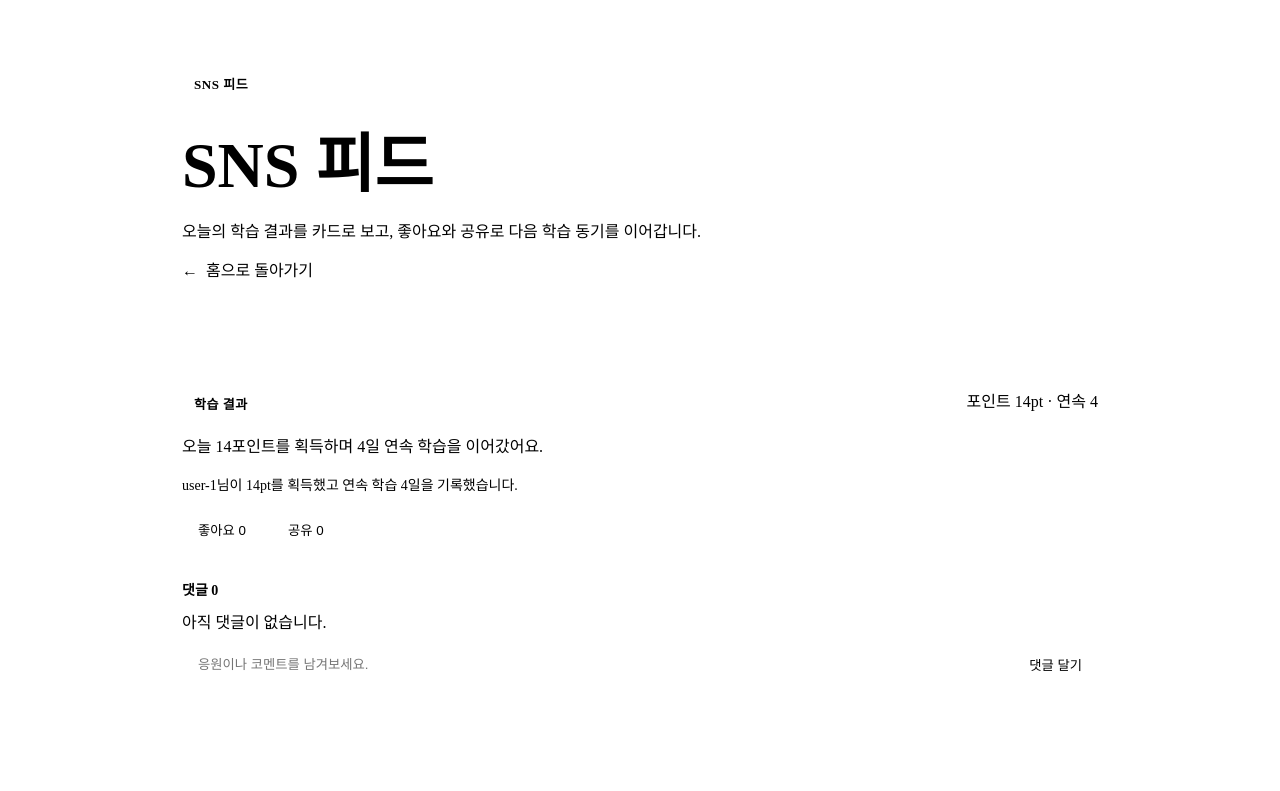
it: feed ui › blocks duplicate share rewards for the same post
What coordinates should you click on to do the following:
click the button with aria-label "공유 post-reward"
I would click on:
 (306, 530)
Its box is 272,508 -> 340,551.
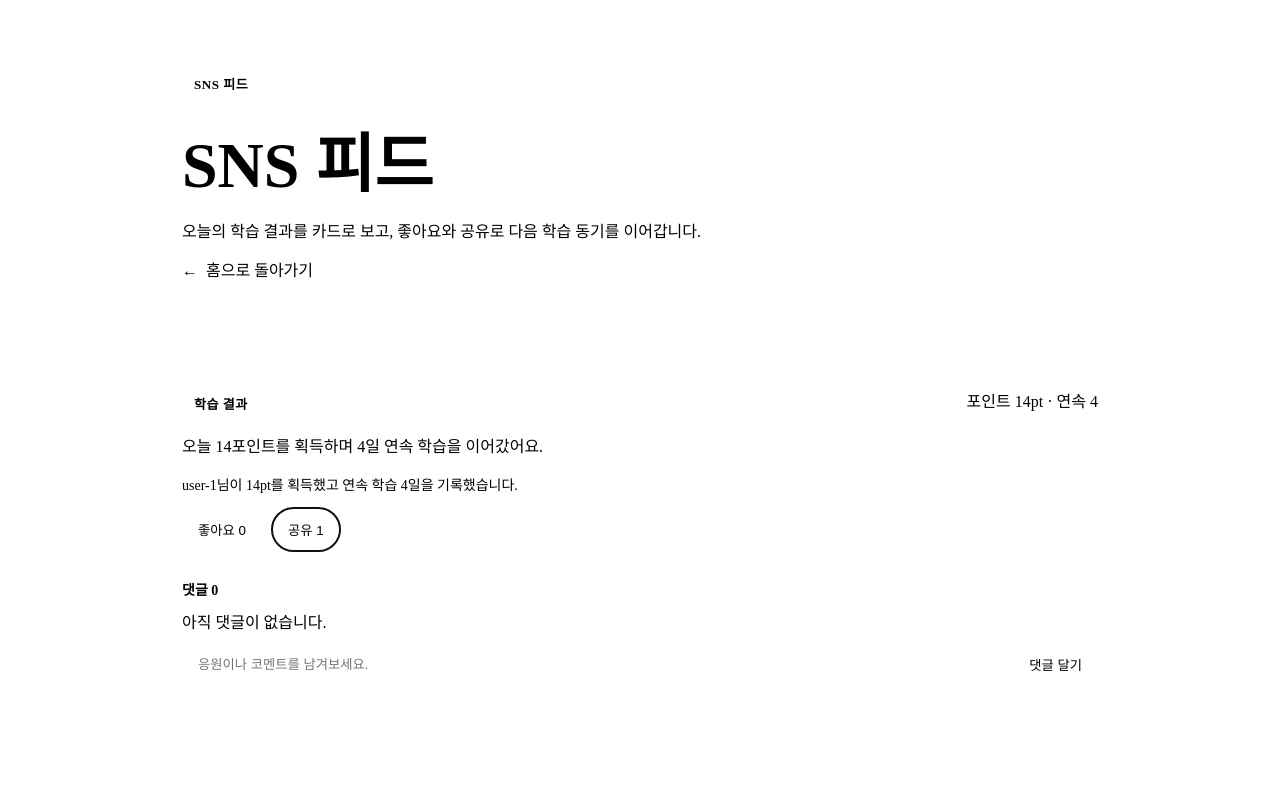
What coordinates should you click on to do the following:
click the button with aria-label "공유 post-reward"
I would click on:
 (306, 530)
Its box is 272,508 -> 340,551.
(page scrolled)
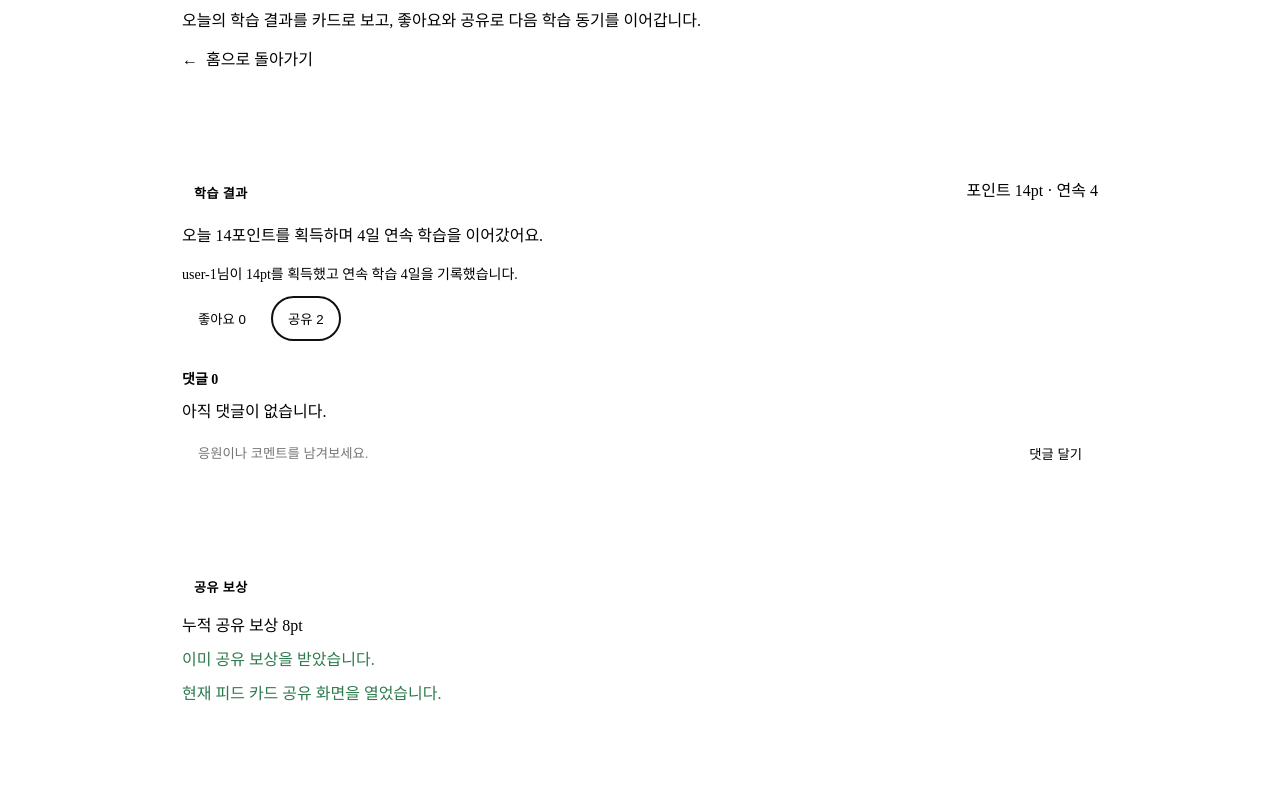
expect the message "이미 공유 보상을 받았습니다." is shown: met, box 182,651 -> 375,668
